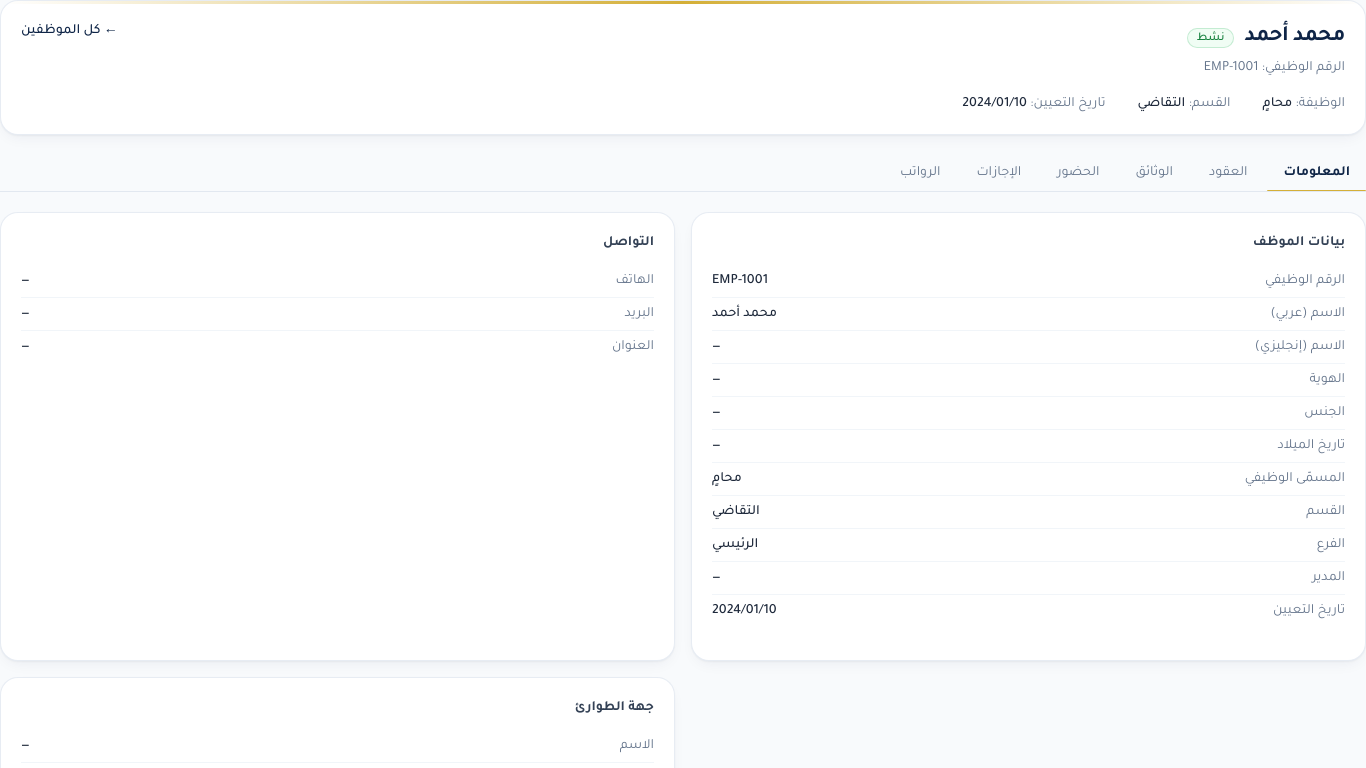
Test case: HrEmployeeProfilePage › يعرض سجلّ الحضور
Expected: the heading "محمد أحمد" is shown, [1244,21,1345,54]
Click the tab "الحضور".
click(1078, 173)  # box [1041,155,1116,191]
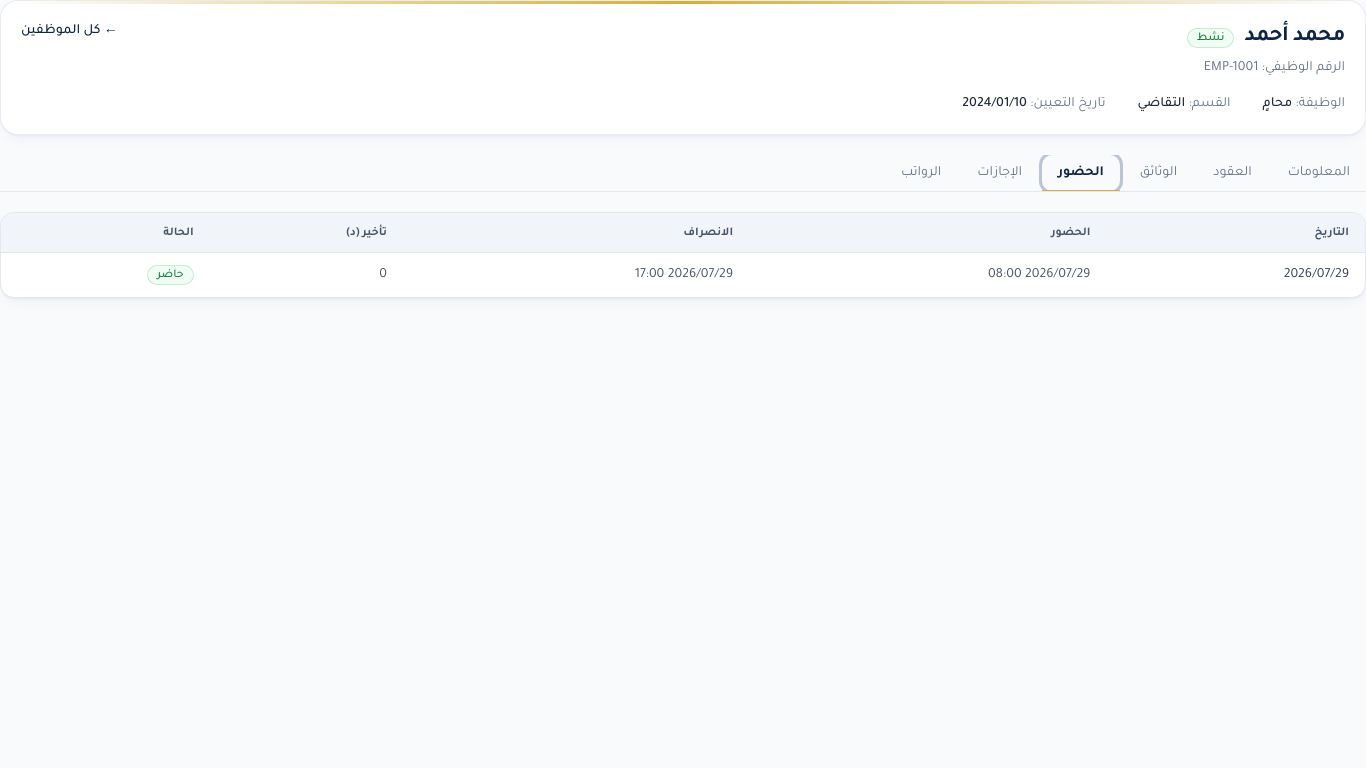
Expected: the text "حاضر" is shown, [147,265,194,285]
